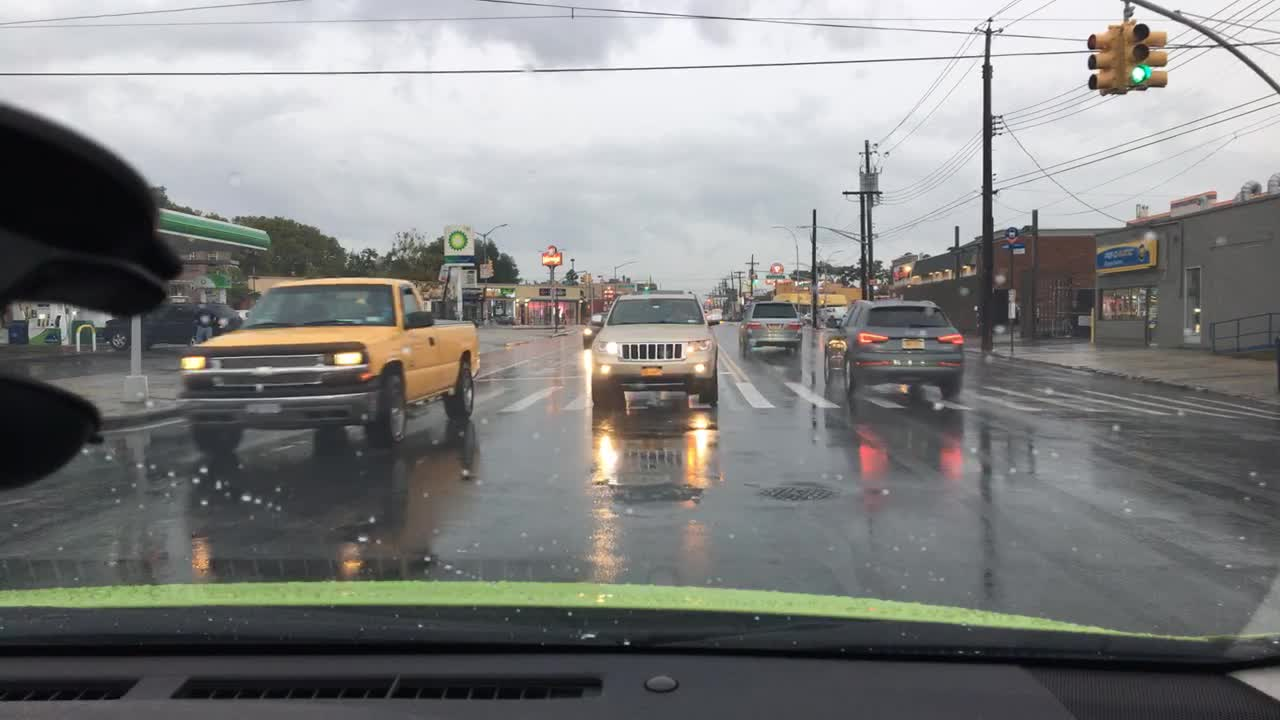car: (588, 291, 719, 407), (822, 295, 967, 399), (101, 298, 241, 351), (736, 298, 804, 356), (582, 310, 613, 349), (824, 306, 849, 325), (704, 306, 721, 322), (797, 312, 811, 322)
person: (191, 299, 219, 343)
traffic light: (1083, 25, 1126, 95), (1126, 23, 1154, 89), (1148, 31, 1171, 88), (993, 288, 1016, 318), (748, 271, 762, 287), (579, 273, 594, 285)
traffic sign: (1000, 227, 1024, 255), (479, 264, 492, 280), (765, 274, 785, 279)
truck: (176, 273, 481, 453)
